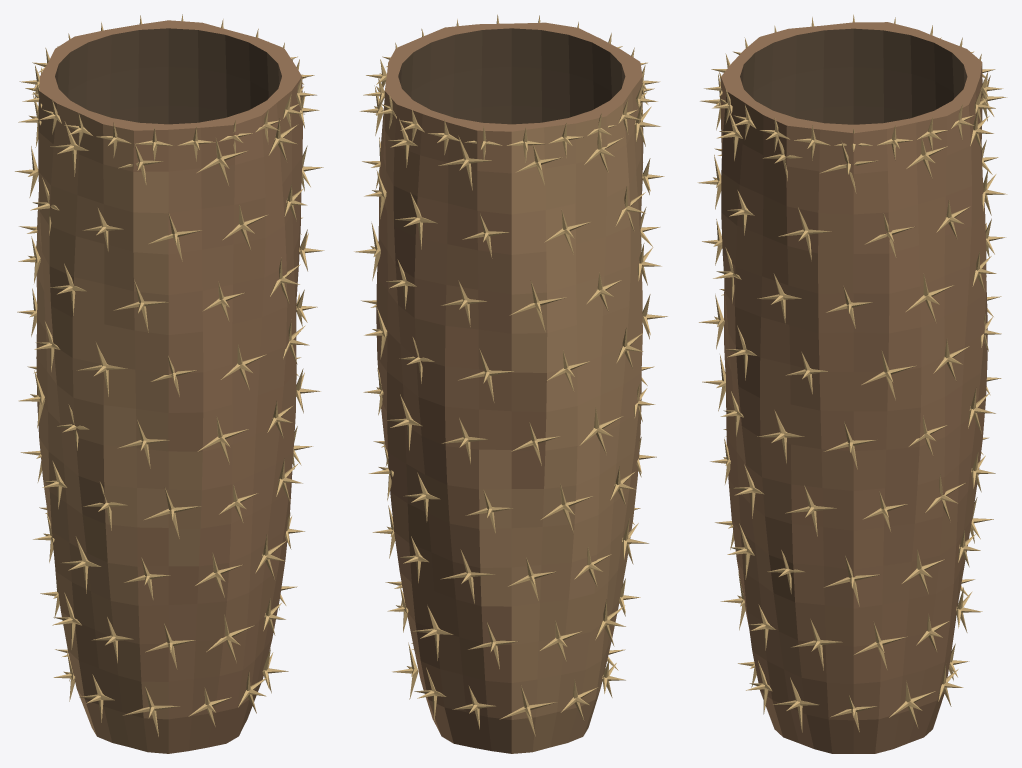
3 renders of one model, left to right at view 1: azimuth 30°, elevation 25°; view 2: azimuth 150°, elevation 25°; view 3: azimuth 270°, elevation 25°, orthographic.
Parts seen in each view (by area): view 1: complete_hollow_attached_sac_with_open_crown, sclerite_four_spreading_tangential_rays, sclerite_outward_central_rays, dense_crown_five_ray_sclerites; view 2: complete_hollow_attached_sac_with_open_crown, sclerite_four_spreading_tangential_rays, sclerite_outward_central_rays, dense_crown_five_ray_sclerites; view 3: complete_hollow_attached_sac_with_open_crown, sclerite_four_spreading_tangential_rays, sclerite_outward_central_rays, dense_crown_five_ray_sclerites.
Boxes of the visible parts, <box> form: complete_hollow_attached_sac_with_open_crown: <box>36,20,302,753</box>; sclerite_four_spreading_tangential_rays: <box>27,58,310,736</box>; sclerite_outward_central_rays: <box>15,77,324,717</box>; dense_crown_five_ray_sclerites: <box>19,14,316,161</box>; complete_hollow_attached_sac_with_open_crown: <box>376,22,643,753</box>; sclerite_four_spreading_tangential_rays: <box>370,85,653,736</box>; sclerite_outward_central_rays: <box>354,73,667,718</box>; dense_crown_five_ray_sclerites: <box>363,14,660,162</box>; complete_hollow_attached_sac_with_open_crown: <box>721,22,987,753</box>; sclerite_four_spreading_tangential_rays: <box>713,74,996,732</box>; sclerite_outward_central_rays: <box>697,96,1007,717</box>; dense_crown_five_ray_sclerites: <box>704,14,1003,160</box>.
Size of the model in its own units: 0.0708 by 0.1615 by 0.0701.
